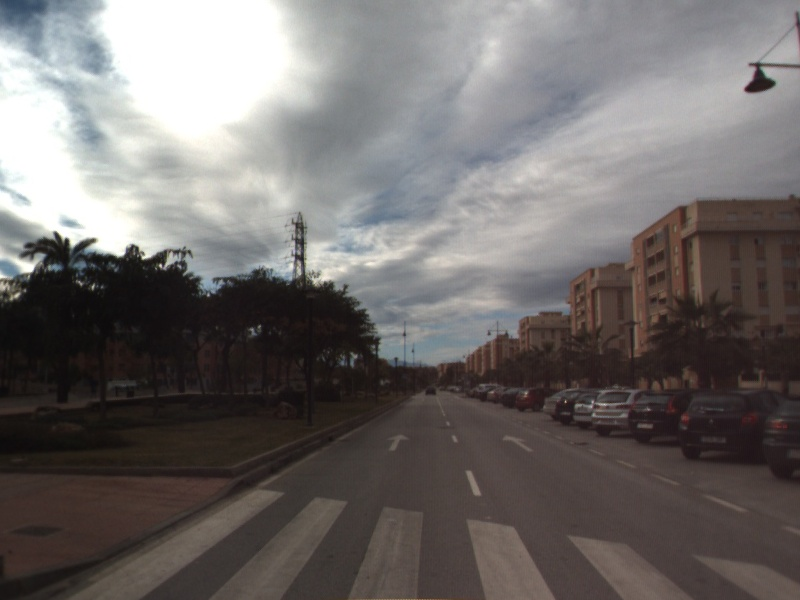STRAIGHT: (500, 433, 536, 453), (385, 432, 412, 453)
